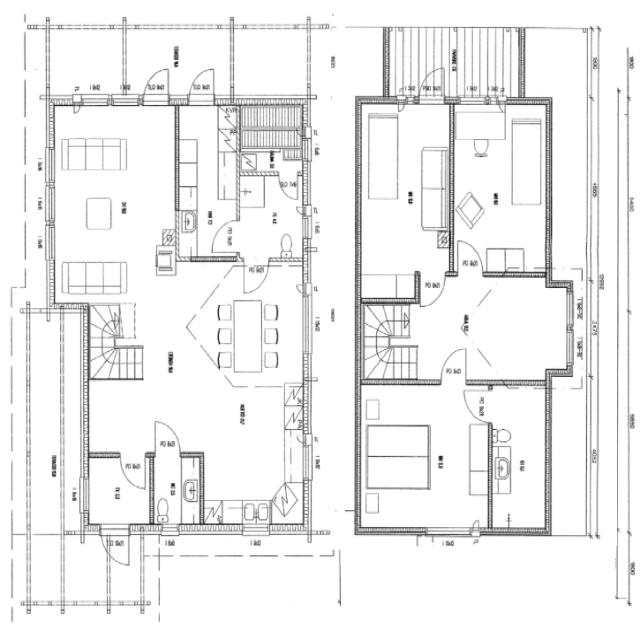door: (141, 64, 217, 106), (103, 455, 151, 513), (450, 355, 490, 423), (140, 63, 173, 106), (186, 63, 218, 107), (454, 235, 486, 275), (152, 418, 184, 457), (104, 526, 132, 569), (438, 344, 468, 384), (209, 217, 240, 255), (462, 384, 491, 424), (418, 64, 447, 104), (119, 454, 149, 491), (418, 272, 448, 308), (242, 258, 270, 296), (276, 170, 302, 203), (492, 85, 510, 115), (70, 90, 84, 116), (394, 91, 408, 115), (470, 516, 483, 539)
window: (299, 288, 316, 362), (563, 285, 579, 341), (423, 524, 473, 541), (42, 177, 58, 227), (42, 140, 58, 188), (42, 217, 58, 265), (300, 436, 316, 484), (79, 91, 116, 109), (456, 92, 490, 109), (79, 473, 92, 516), (301, 209, 312, 244), (241, 522, 270, 535), (31, 599, 60, 611)
zone: (50, 115, 177, 291), (362, 385, 489, 532), (359, 102, 450, 294), (452, 100, 548, 274), (198, 385, 303, 526), (465, 275, 572, 382), (221, 265, 309, 388), (177, 104, 239, 260), (490, 385, 550, 535), (46, 25, 125, 101), (237, 175, 306, 262), (233, 26, 310, 100), (82, 372, 156, 448), (364, 419, 432, 501), (85, 455, 152, 529), (240, 102, 305, 157), (62, 535, 109, 608), (28, 534, 64, 607), (150, 454, 182, 528), (179, 457, 201, 527)
